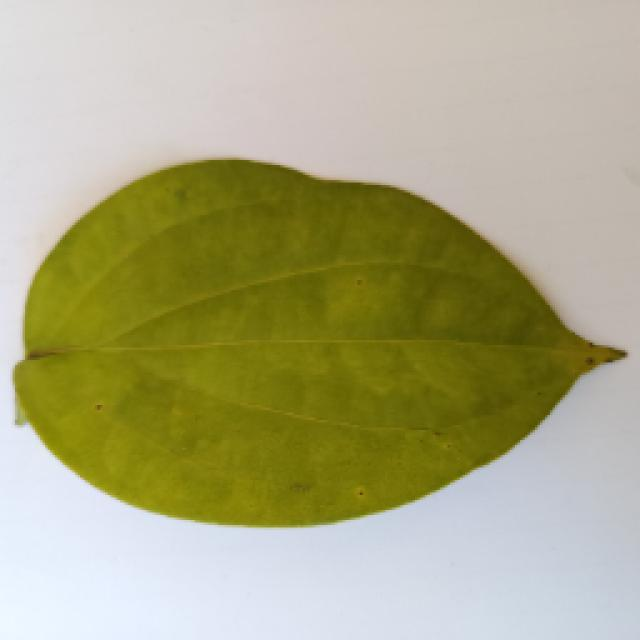slow-decline: (8, 155, 620, 527)
